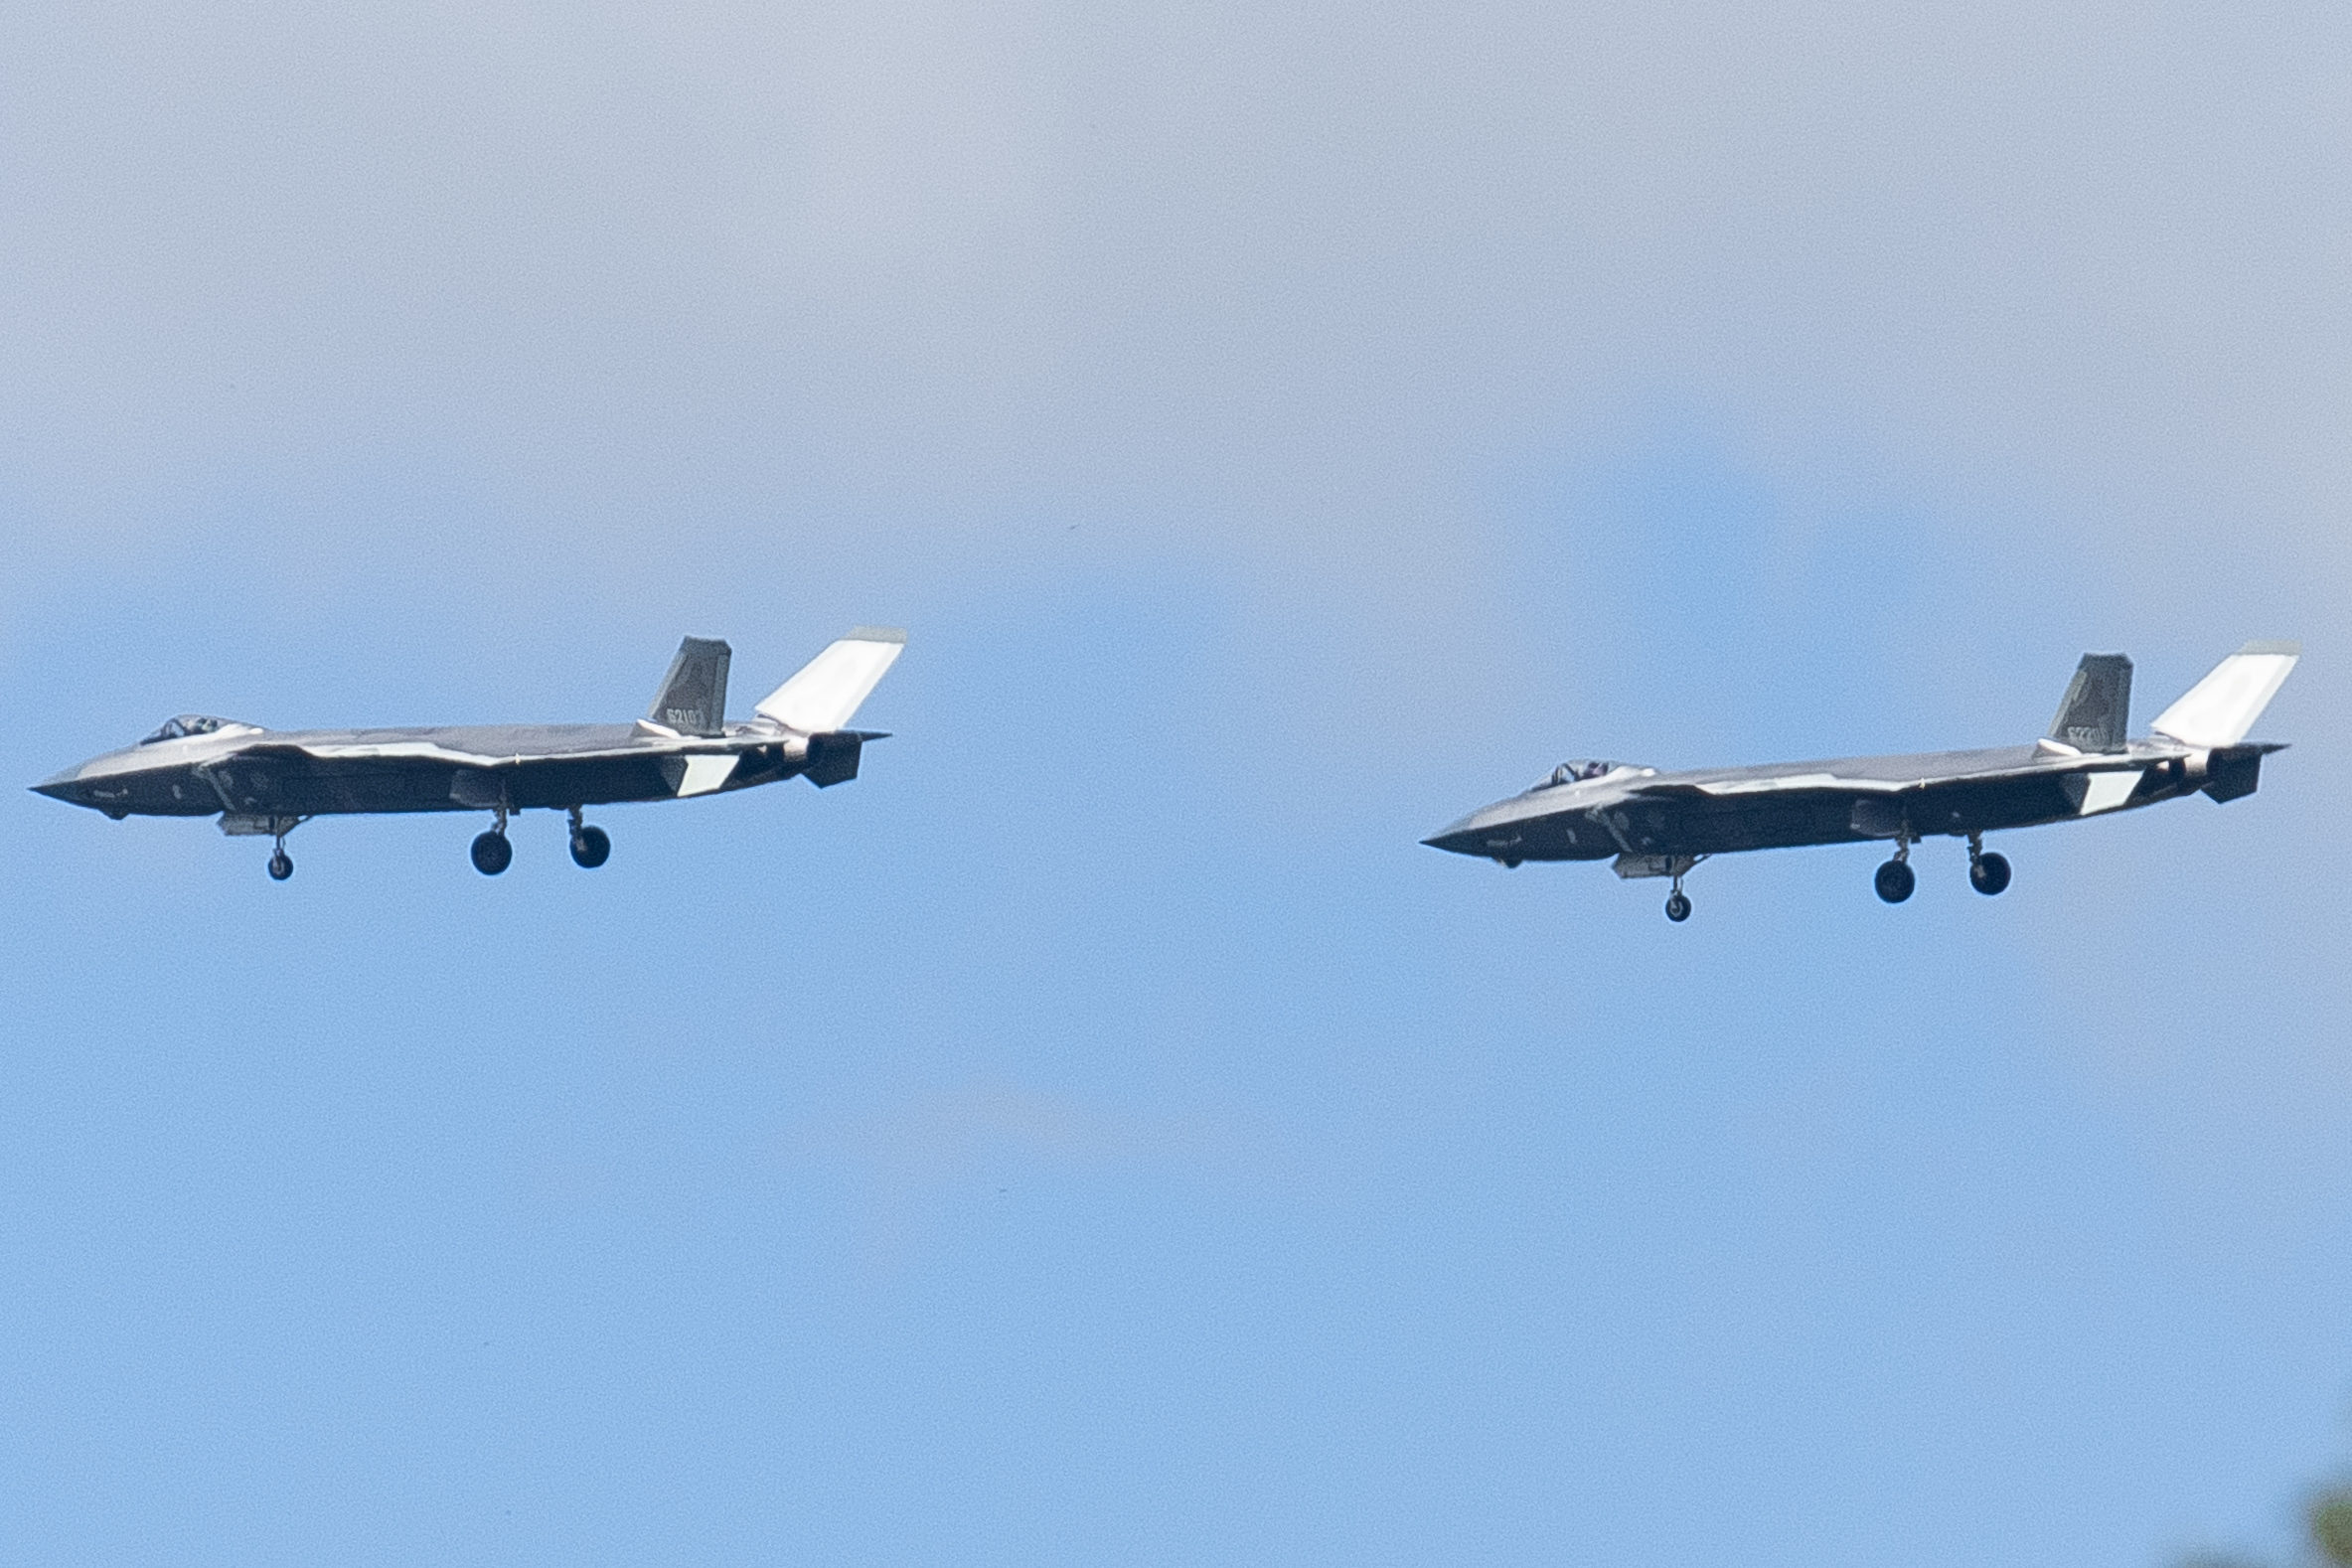J20: (1417, 639, 2305, 922), (24, 625, 908, 880)
